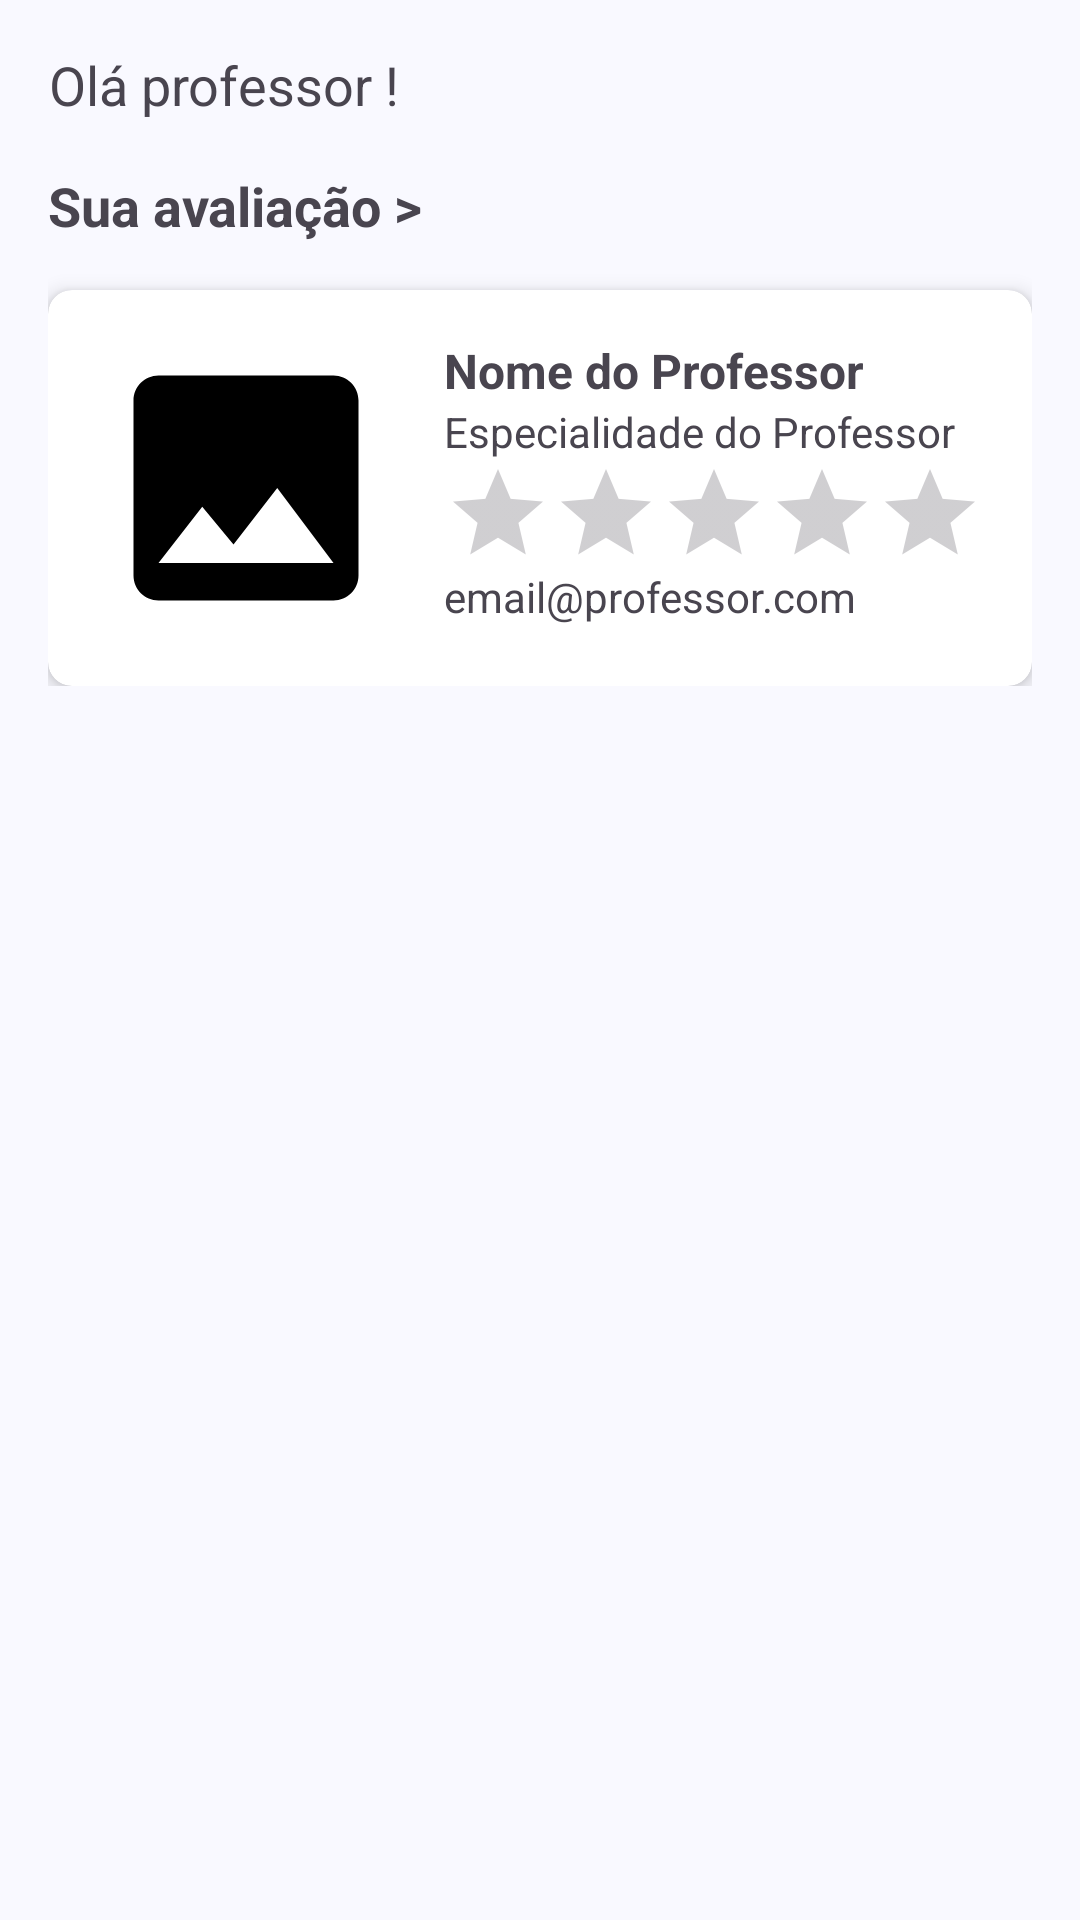

Icon click points for this 1080 × 1920 phone screenshot, format point (x, y):
Foto do Professor: point (246, 488)
